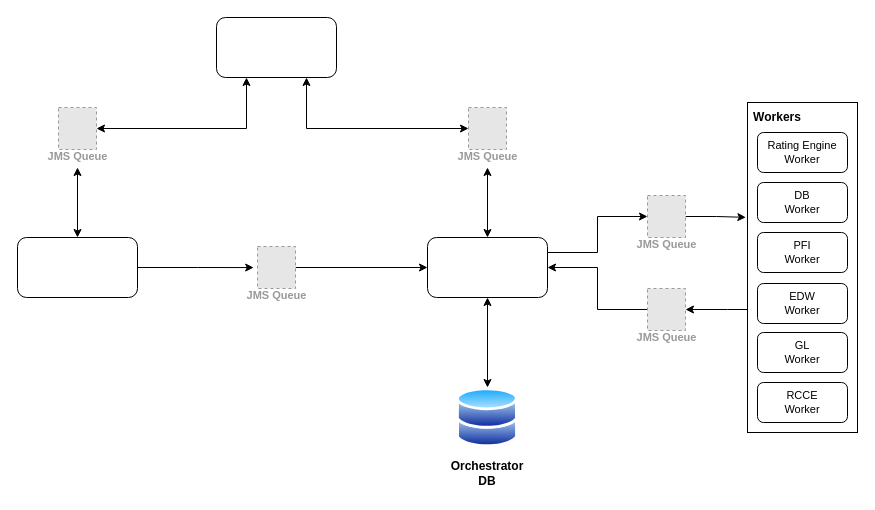
Some shapes in this 875 by 510 pixel diagram are drawn without their labels. Grey dashed boxes stand in for pictures. The centre of each missing label's shape, as x and y in pixels:
Error Repository: (x=276, y=47)
Rating Adapter: (x=77, y=267)
Rating Orchestrator Service: (x=487, y=267)
